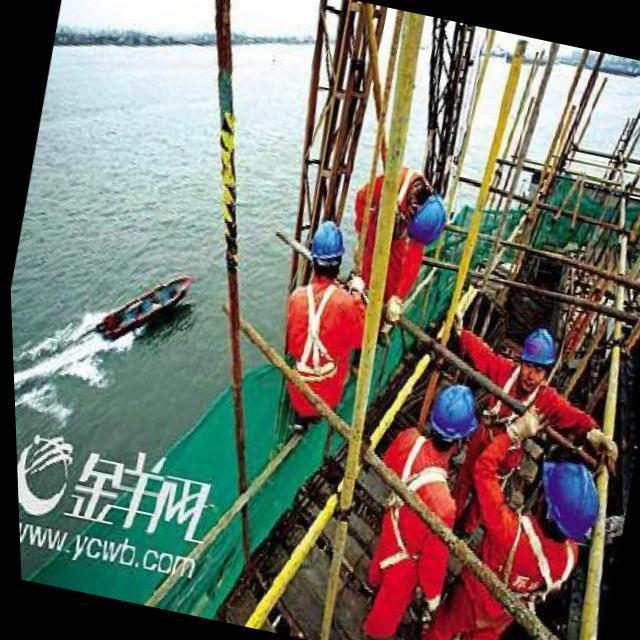Harness: (296, 284, 338, 382), (402, 437, 448, 492)
